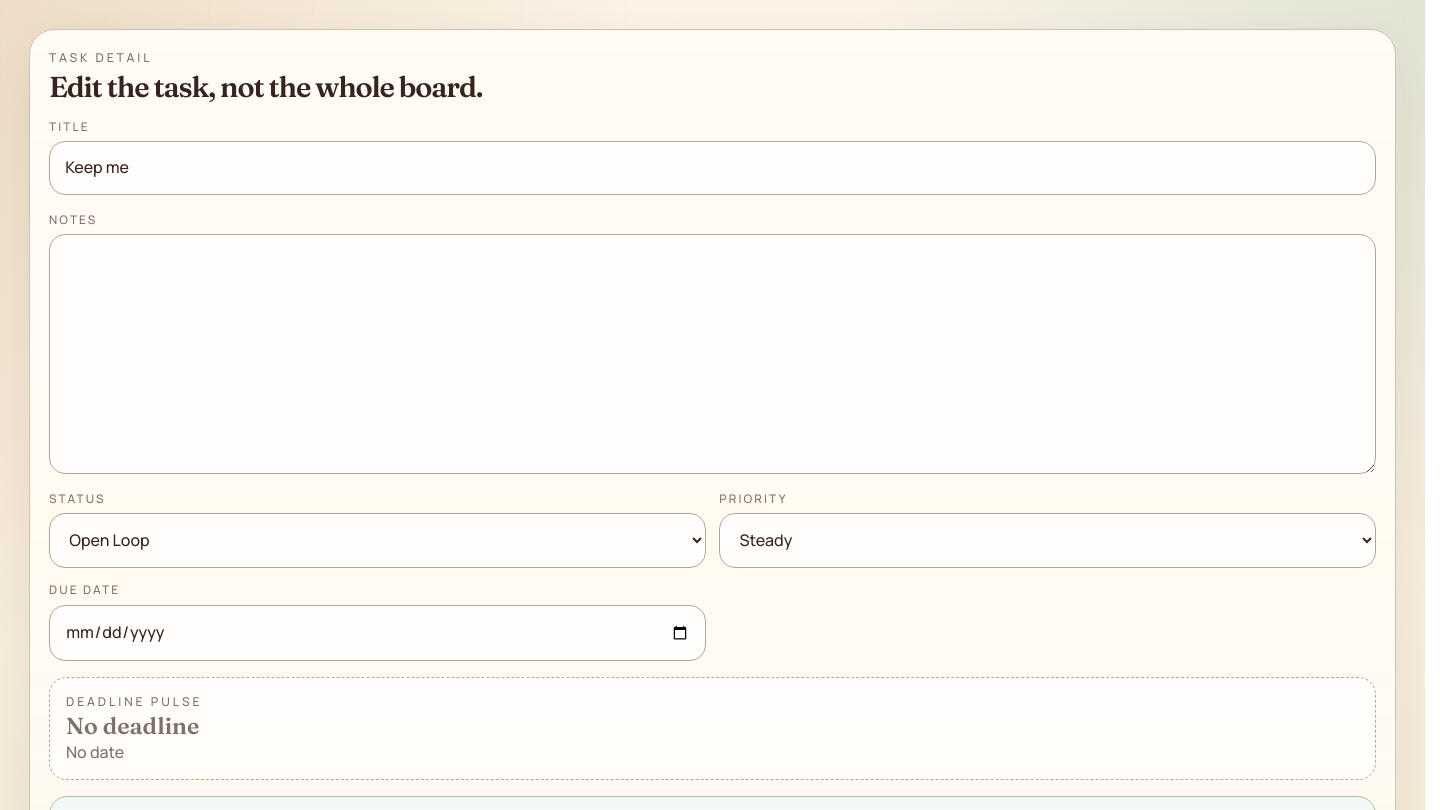
TaskDetail editable title › reverts to original title on Escape without committing
Clear the field labelled "Title": (712, 168) [49,141,1376,195]
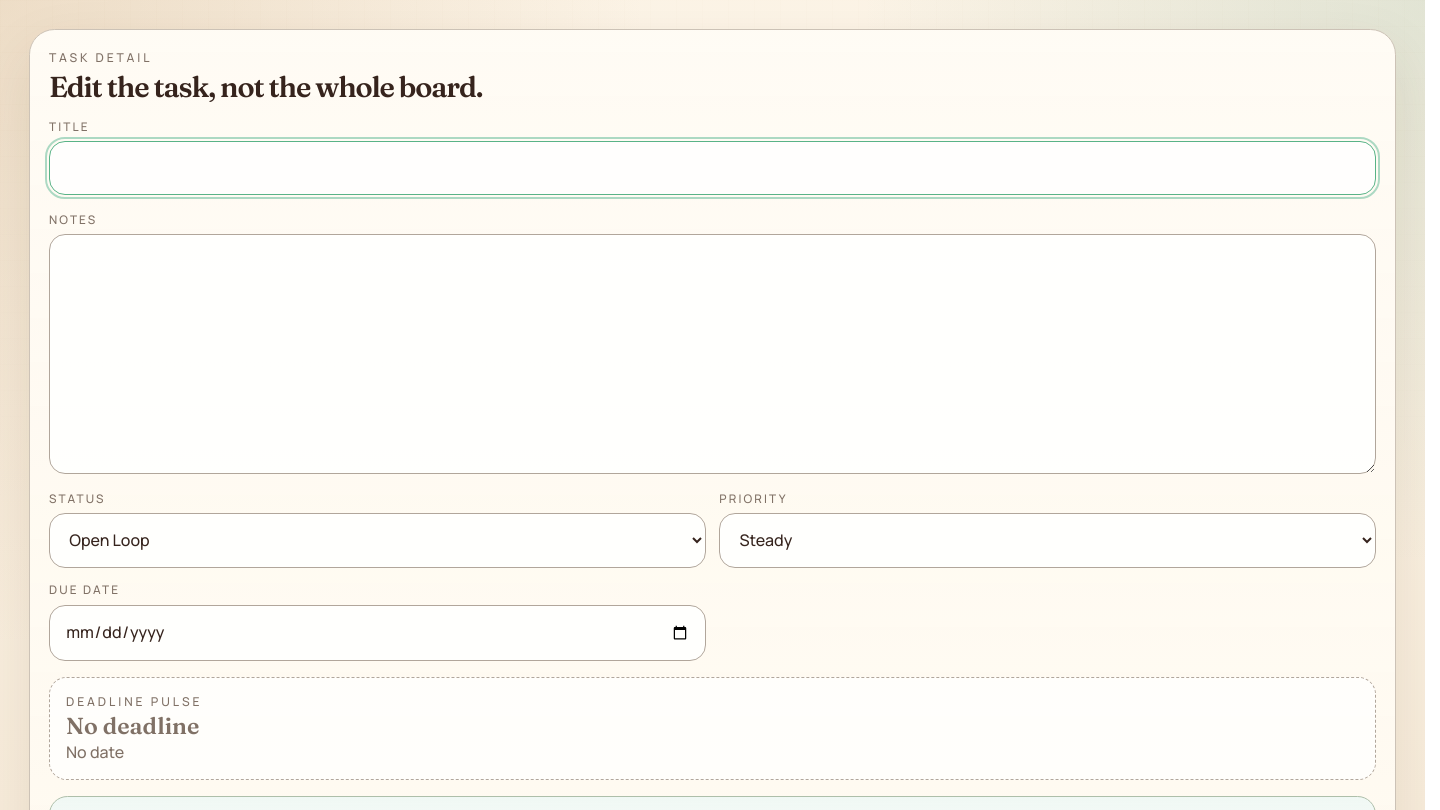
Press Escape
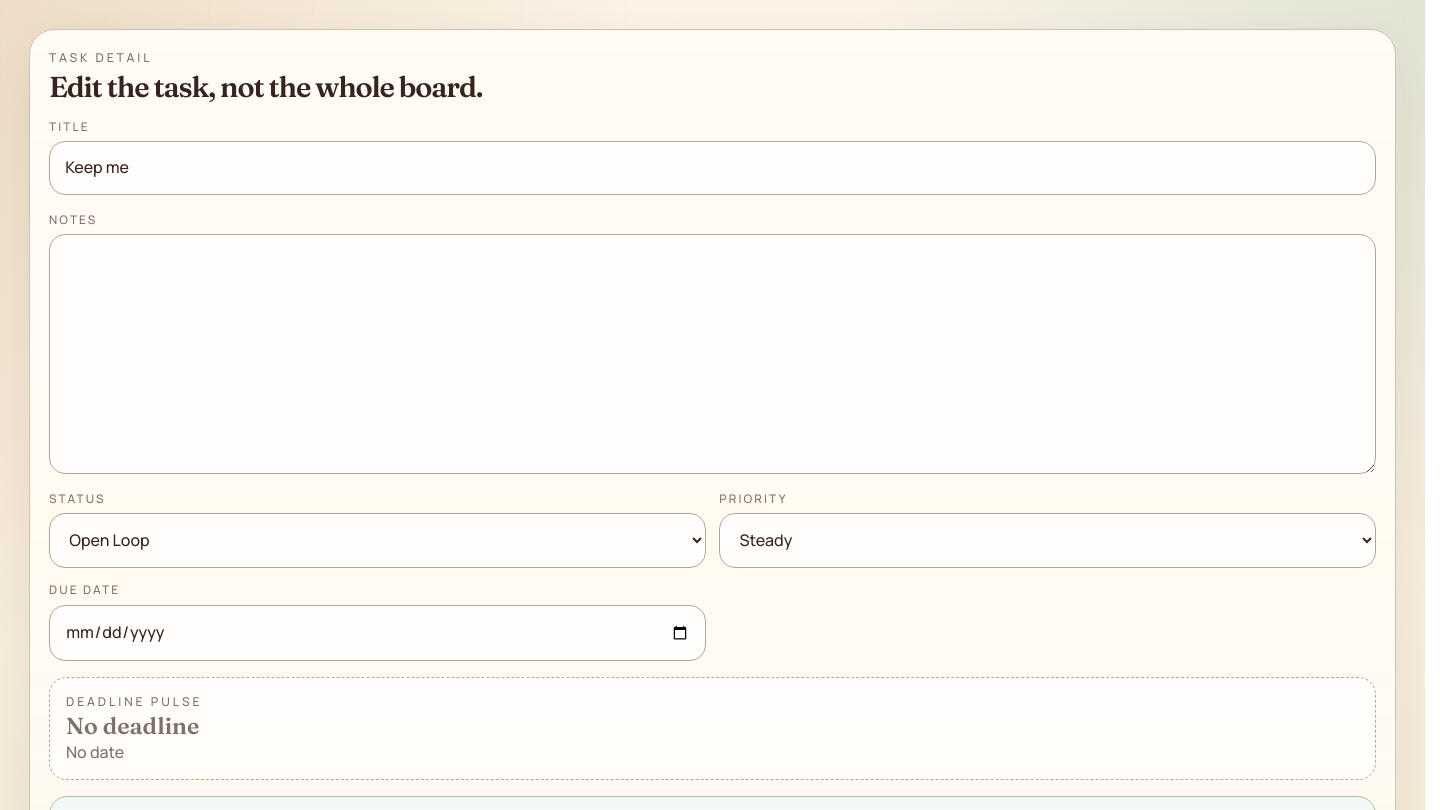
Expected: the field labelled "Title" holds "Keep me", [49,141,1376,195]
